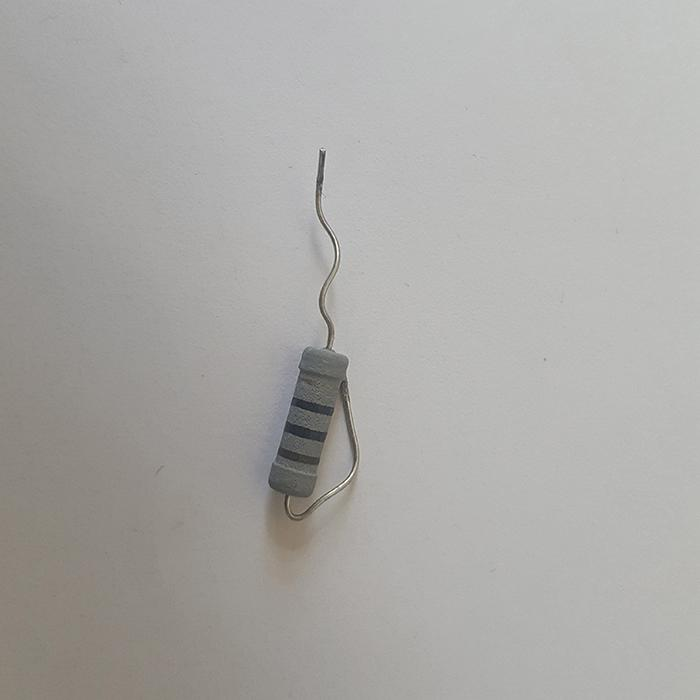resistor: (267, 345, 351, 500)
